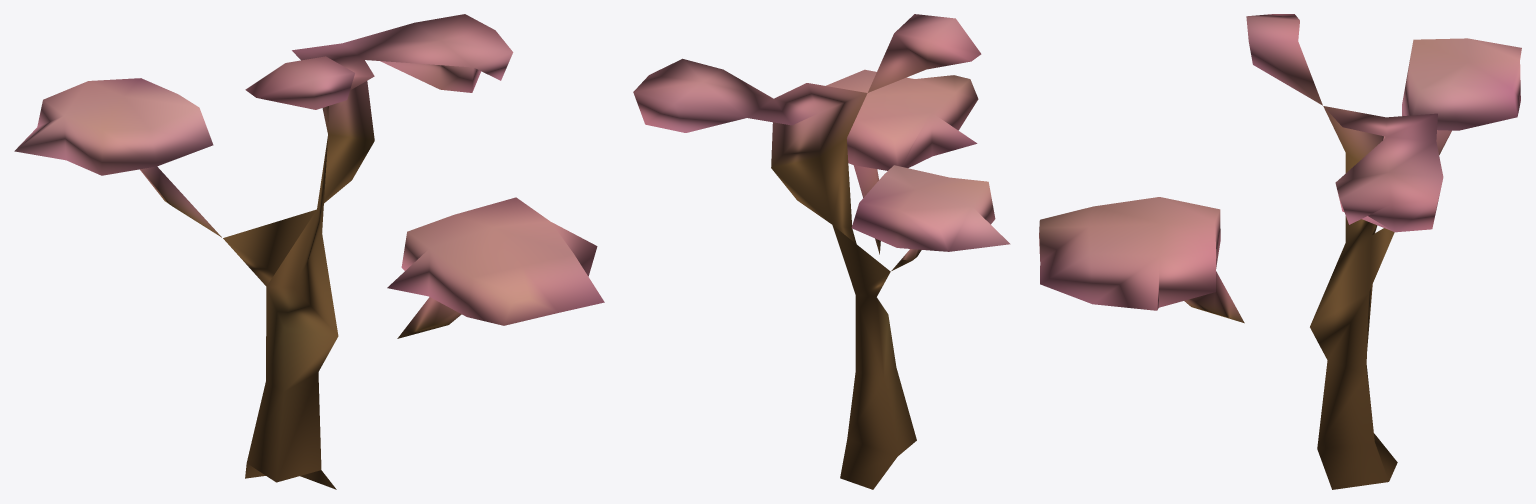
Rendered from cloud-tree-102-lod3.obj.
3 renders of one model, left to right at view 1: azimuth 30°, elevation 25°; view 2: azimuth 150°, elevation 25°; view 3: azimuth 270°, elevation 25°, orthographic. The views are drawn at different scales.
Visible parts, largest first — view 1: simplified; view 2: simplified; view 3: simplified.
Part boxes in pixels (bbox=[...]): simplified: bbox=[14, 14, 604, 489]; simplified: bbox=[633, 14, 1010, 489]; simplified: bbox=[1039, 14, 1521, 489].
Bounding box in the file's own units: 286 × 288 × 285.
